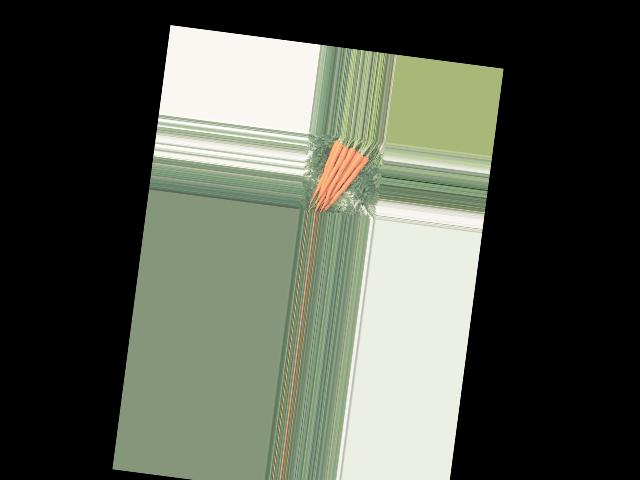carrot: (306, 136, 343, 210)
